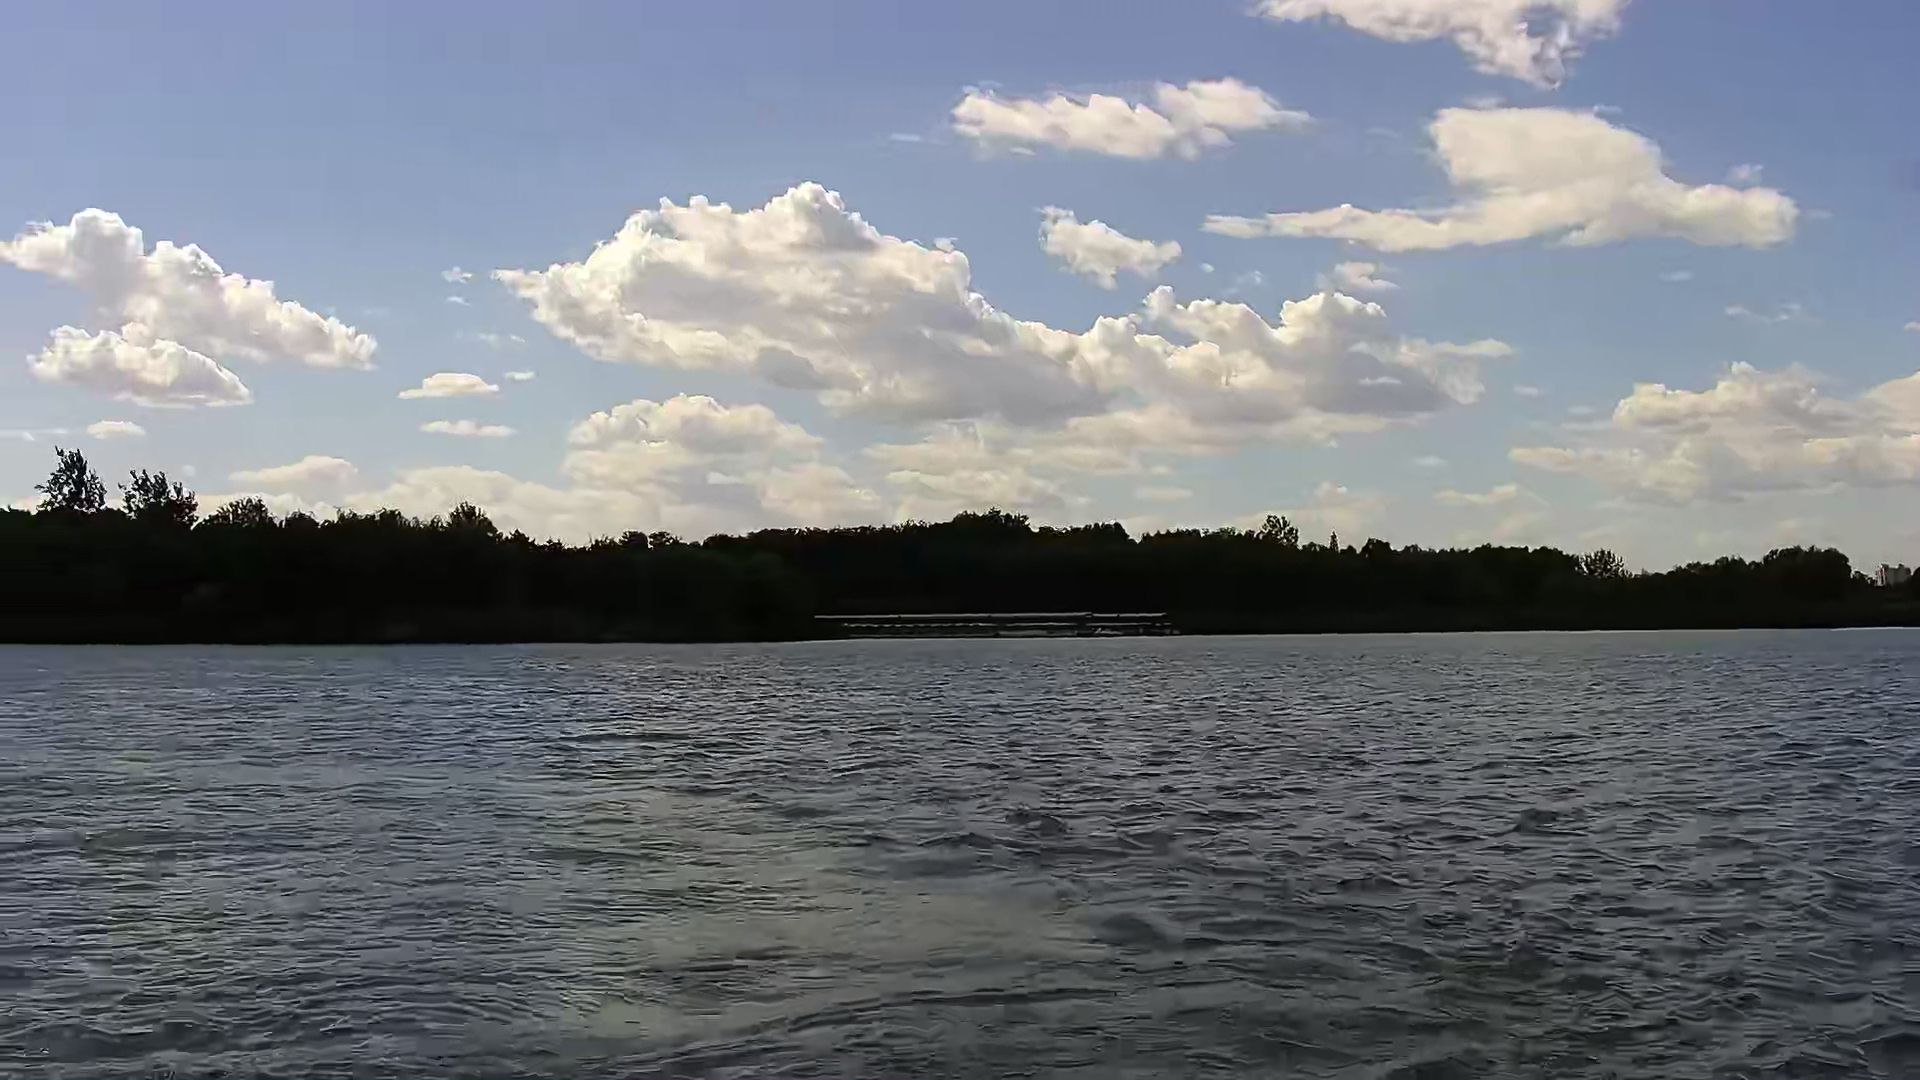harbor: (843, 607, 1174, 642)
